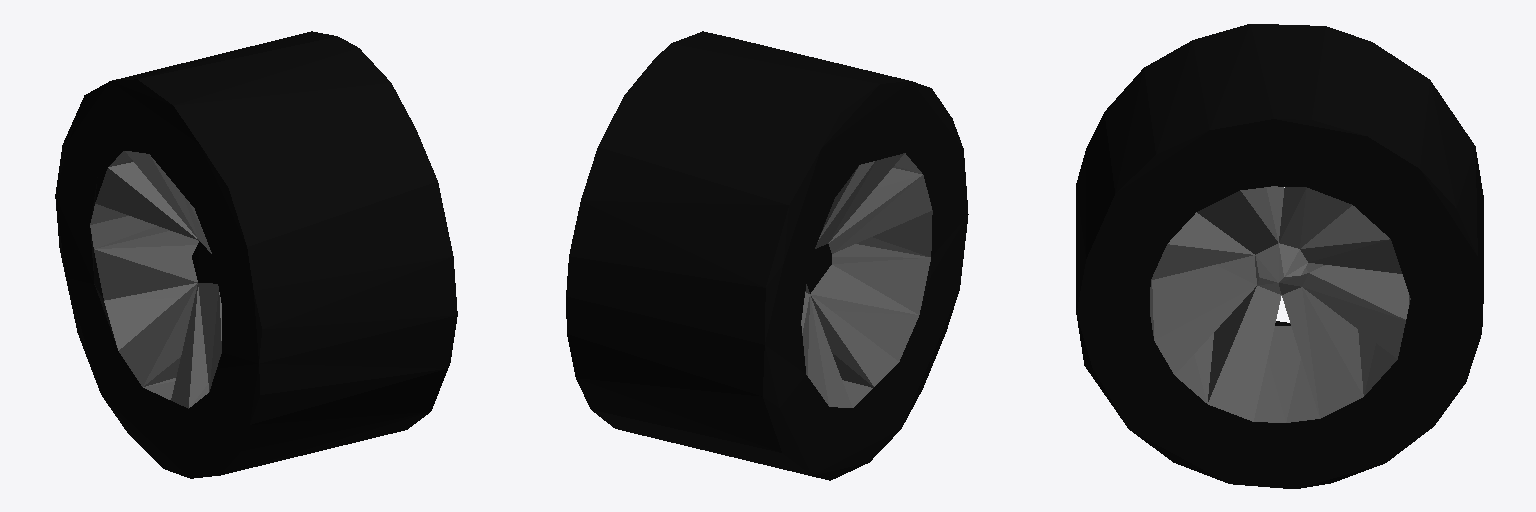
File: hot_rod2_rear_wheel.obj
3 renders of one model, left to right at view 1: azimuth 30°, elevation 25°; view 2: azimuth 150°, elevation 25°; view 3: azimuth 270°, elevation 25°, orthographic.
Visible parts, largest first — view 1: Cylinder.003; view 2: Cylinder.003; view 3: Cylinder.003.
Part boxes in pixels (left/top/right/bottom): Cylinder.003: left=55, top=31, right=457, bottom=478; Cylinder.003: left=566, top=31, right=968, bottom=480; Cylinder.003: left=1076, top=24, right=1483, bottom=488.
Size of the model in its own units: 1.08 by 1.91 by 1.9.